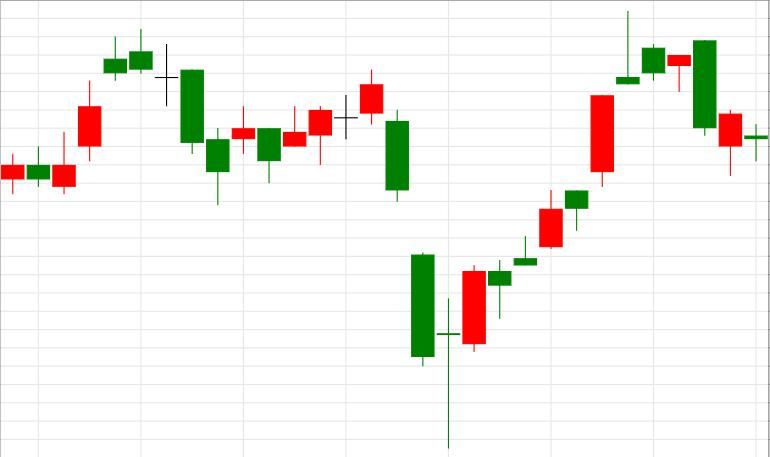bearish_engulfing_fall: (539, 10, 716, 250)
